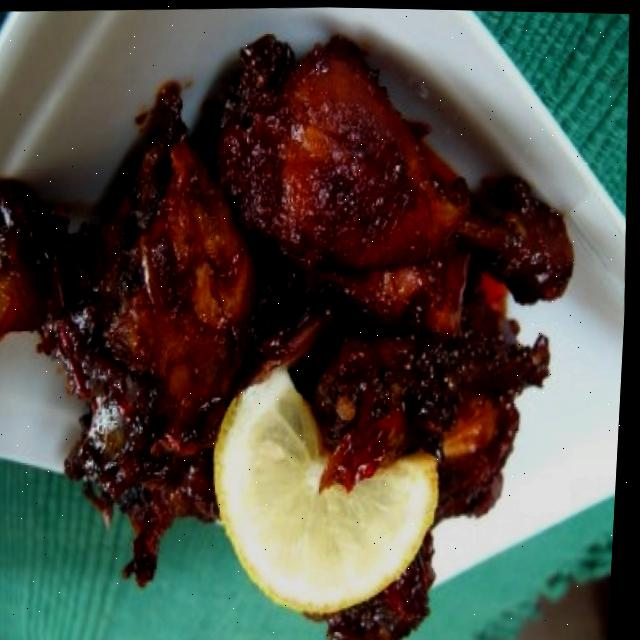鸡肉料理 含炸鸡: (0, 21, 599, 640)
